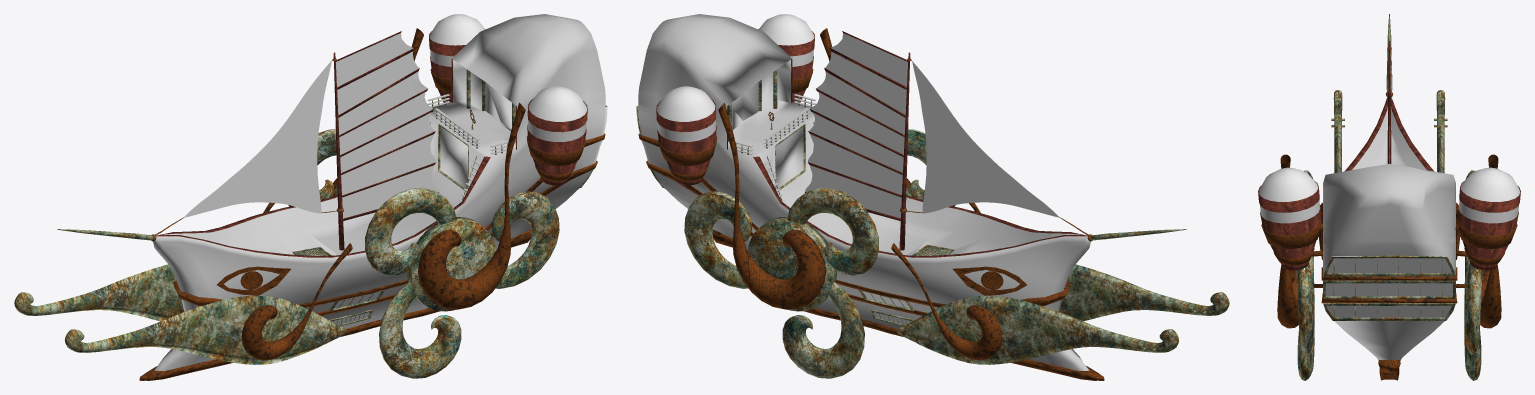
The model's file is Barco_02.fbx.
3 renders of one model, left to right at view 1: azimuth 30°, elevation 25°; view 2: azimuth 150°, elevation 25°; view 3: azimuth 270°, elevation 25°, orthographic.
Visible parts, largest first — view 1: Hull, Wheels, Horns, Flags, Flag, Tubes, Towers, Metal Finials, Stick, Metal Finials Tower, Eyes, Planks (+3 smaller); view 2: Hull, Wheels, Horns, Flags, Flag, Tubes, Towers, Metal Finials, Stick, Metal Finials Tower, Eyes, Planks (+3 smaller); view 3: Hull, Towers, Glass Hull, Wheels, Frames Hull, Tubes, Metal Finials Tower, Metal Finials, Horns, Stick, Horn, Gratings.
Boxes of the visible parts, x1,y1,x2,y2 form: Hull: [153, 14, 607, 371]; Wheels: [288, 129, 559, 378]; Horns: [14, 264, 346, 364]; Flags: [336, 33, 439, 218]; Flag: [183, 60, 331, 217]; Tubes: [241, 28, 525, 360]; Towers: [429, 14, 587, 185]; Metal Finials: [139, 133, 605, 380]; Stick: [333, 31, 438, 250]; Metal Finials Tower: [430, 68, 585, 181]; Eyes: [217, 266, 290, 295]; Planks: [427, 94, 513, 154]; Hull: [638, 14, 1090, 371]; Wheels: [684, 129, 955, 378]; Horns: [897, 264, 1229, 364]; Flags: [805, 33, 907, 218]; Flag: [912, 60, 1060, 217]; Tubes: [718, 28, 1002, 360]; Towers: [656, 14, 814, 185]; Metal Finials: [638, 133, 1104, 380]; Stick: [805, 31, 910, 250]; Metal Finials Tower: [658, 68, 813, 181]; Eyes: [953, 266, 1026, 295]; Planks: [730, 94, 816, 154]; Hull: [1323, 96, 1455, 360]; Towers: [1258, 167, 1520, 270]; Glass Hull: [1326, 258, 1452, 317]; Wheels: [1296, 170, 1482, 380]; Frames Hull: [1323, 255, 1455, 320]; Tubes: [1277, 154, 1501, 328]; Metal Finials Tower: [1261, 218, 1517, 265]; Metal Finials: [1321, 267, 1457, 380]; Horns: [1331, 90, 1447, 173]; Stick: [1387, 41, 1391, 163]; Horn: [1386, 14, 1392, 96]; Gratings: [1333, 258, 1442, 318].
Bounding box in the file's own units: 778 × 429 × 322.
